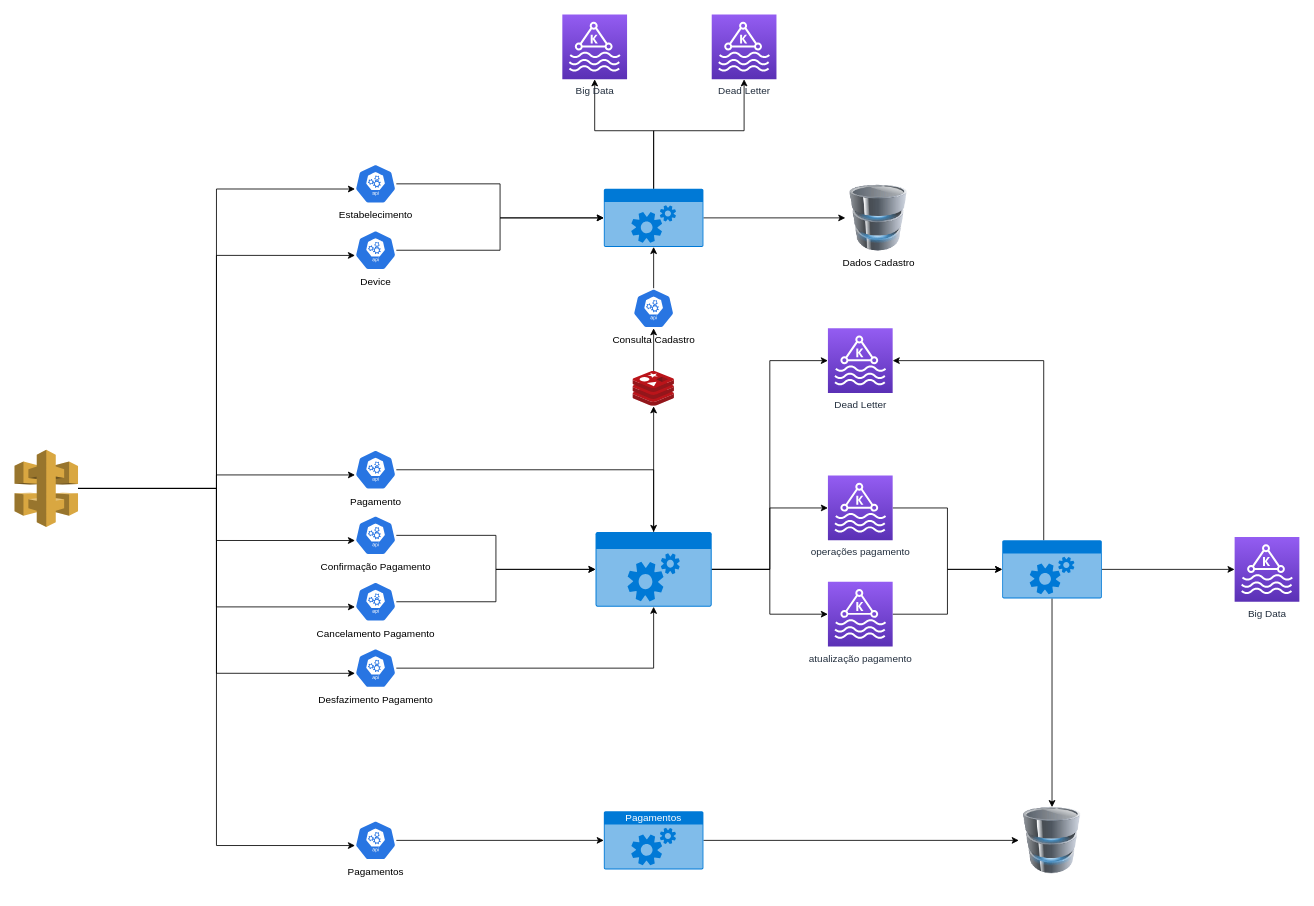
Some shapes in this 1314 by 906 pixel diagram are drawn without their labels. Here are the shapes that lost their labels. From the top down, the centre of each, then its label:
At point 653,217: "Cadastro".
At point 653,388: "Cache Cadastro".
At point 46,488: "Gateway".
At point 653,569: "Operações Pagamentos".
At point 1051,569: "Motor Pagamento".
At point 1051,840: "Dados Pagamentos".
